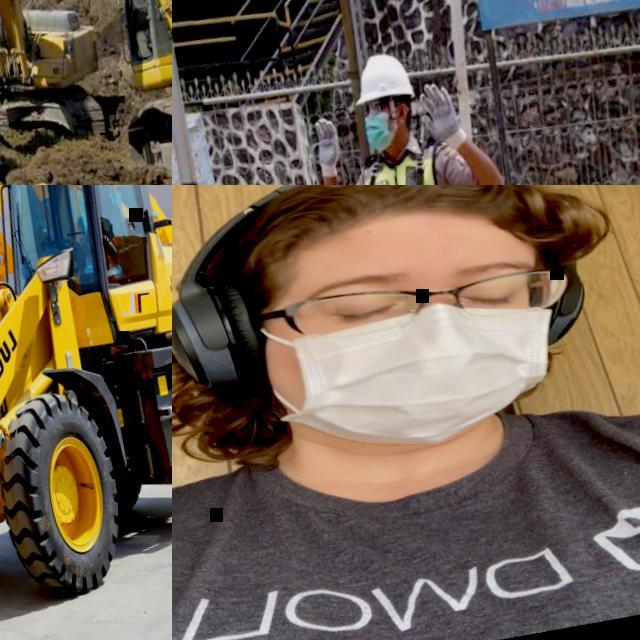helmet: (205, 185, 564, 288), (345, 46, 417, 104)
vest: (351, 141, 470, 185)
